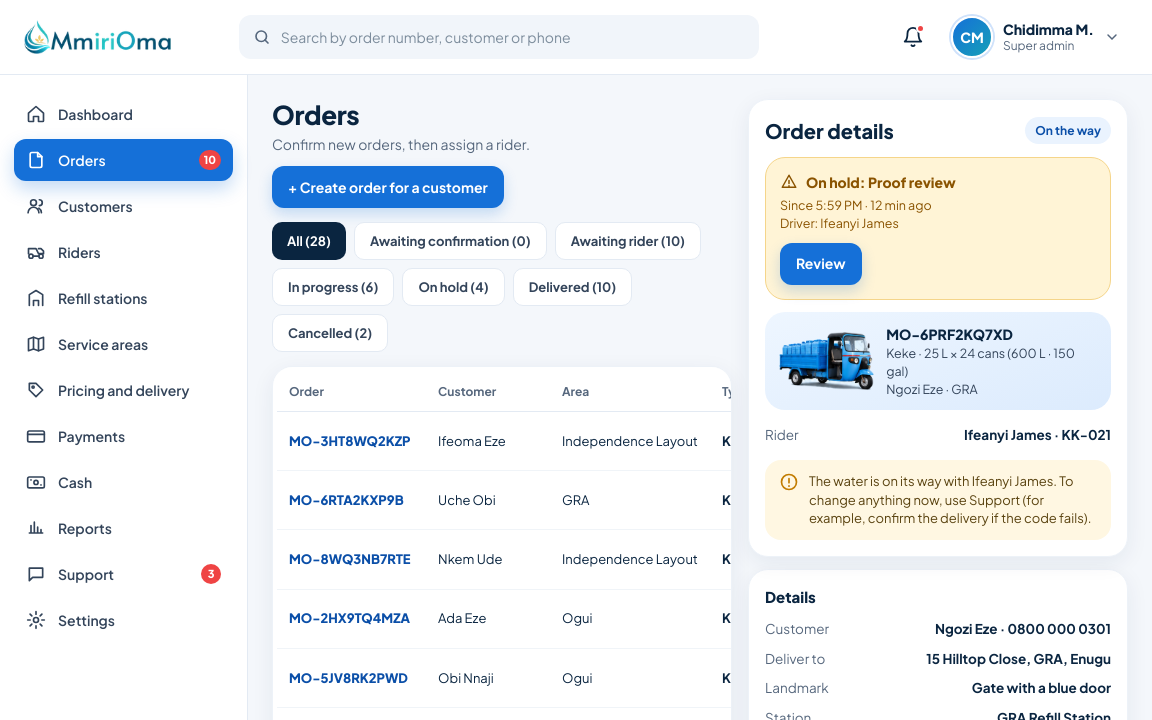
admin pages › rejects the proof with a reason, and the order stays where it was
This screenshot has width=1152, height=720.
Step 1. Click the button "Review" → {"x": 821, "y": 264}, box [780,242,862,284]
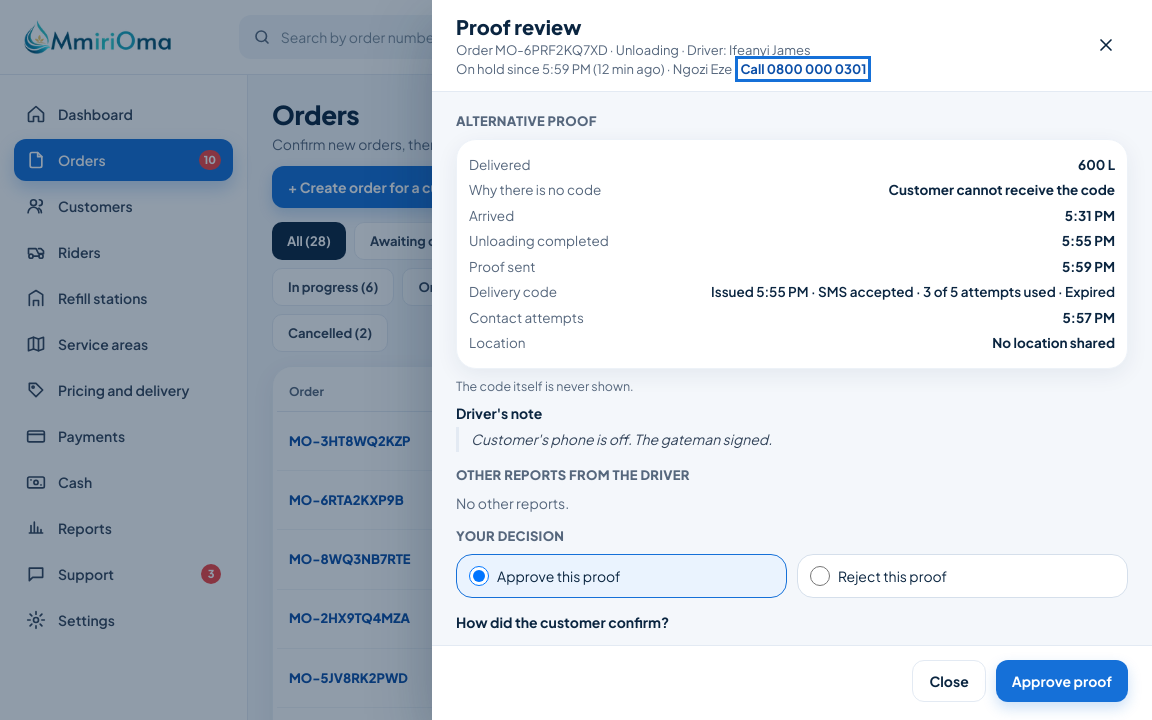
expect the heading "Alternative proof" is shown: met, box [456,113,597,129]
Step 2. Click the radio button labelled "Reject this proof" → {"x": 820, "y": 576}, box [810,566,830,586]
(page scrolled)
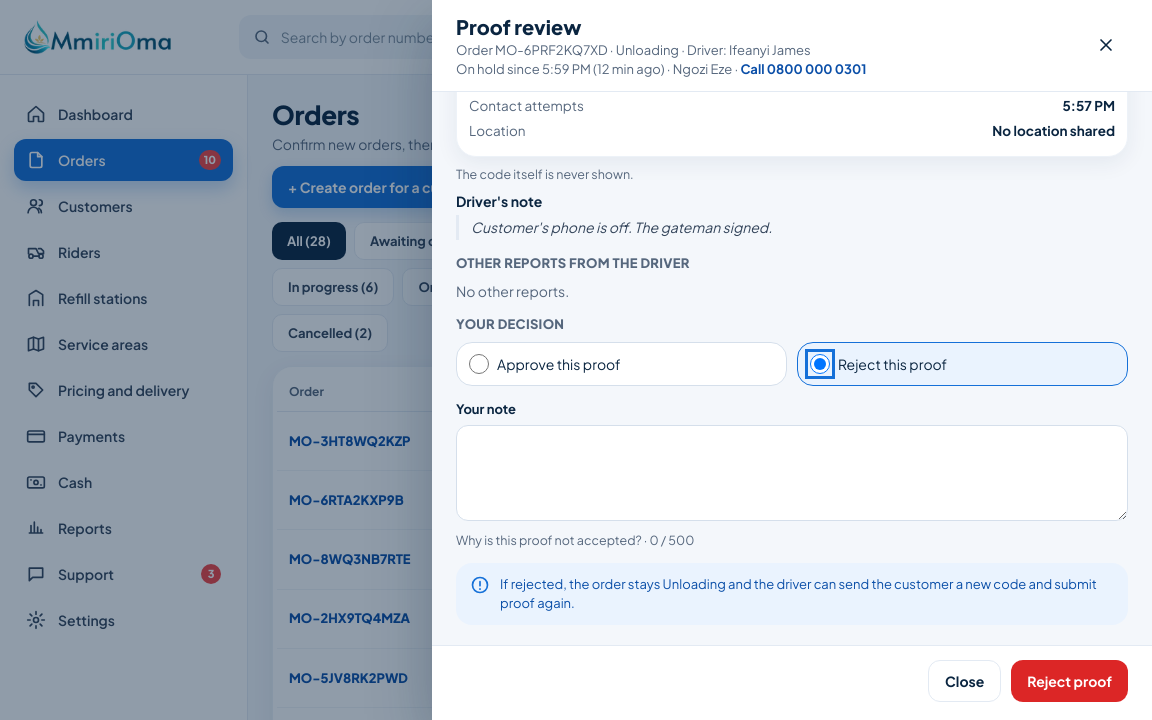
Step 3. Type "The person who answered is not the customer." into the text box labelled "Your note" → {"x": 792, "y": 473}, box [456,425,1128,521]
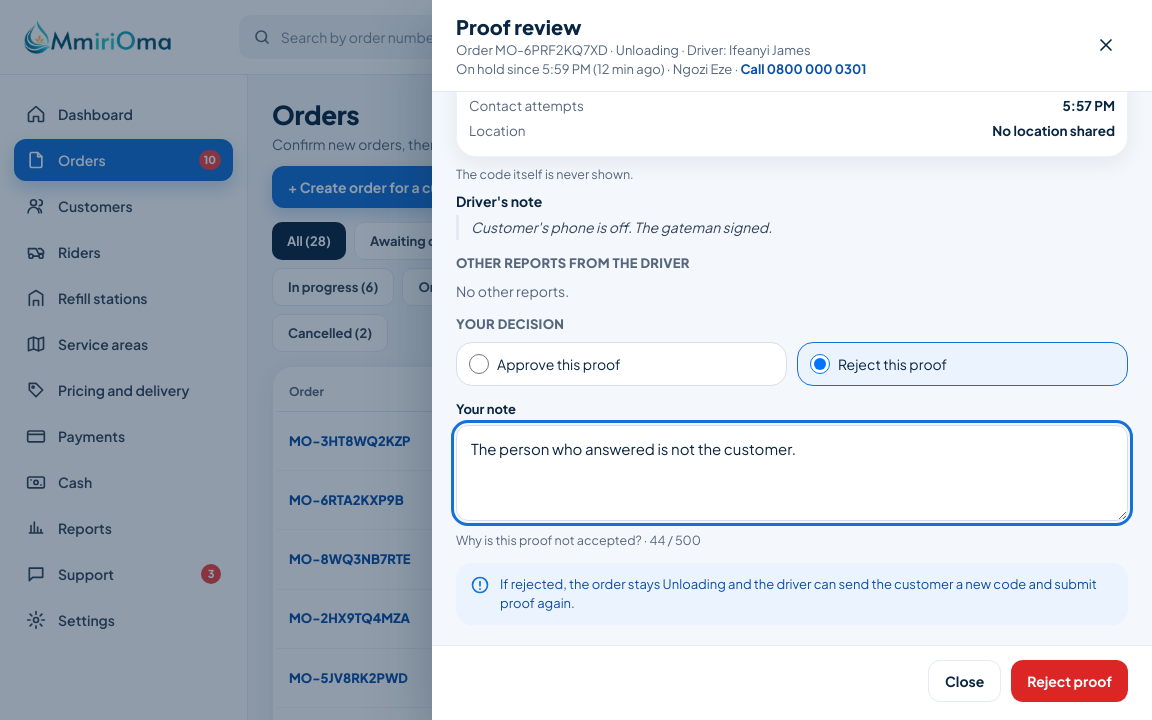
Step 4. Click the button "Reject proof" → {"x": 1070, "y": 681}, box [1011,660,1128,702]
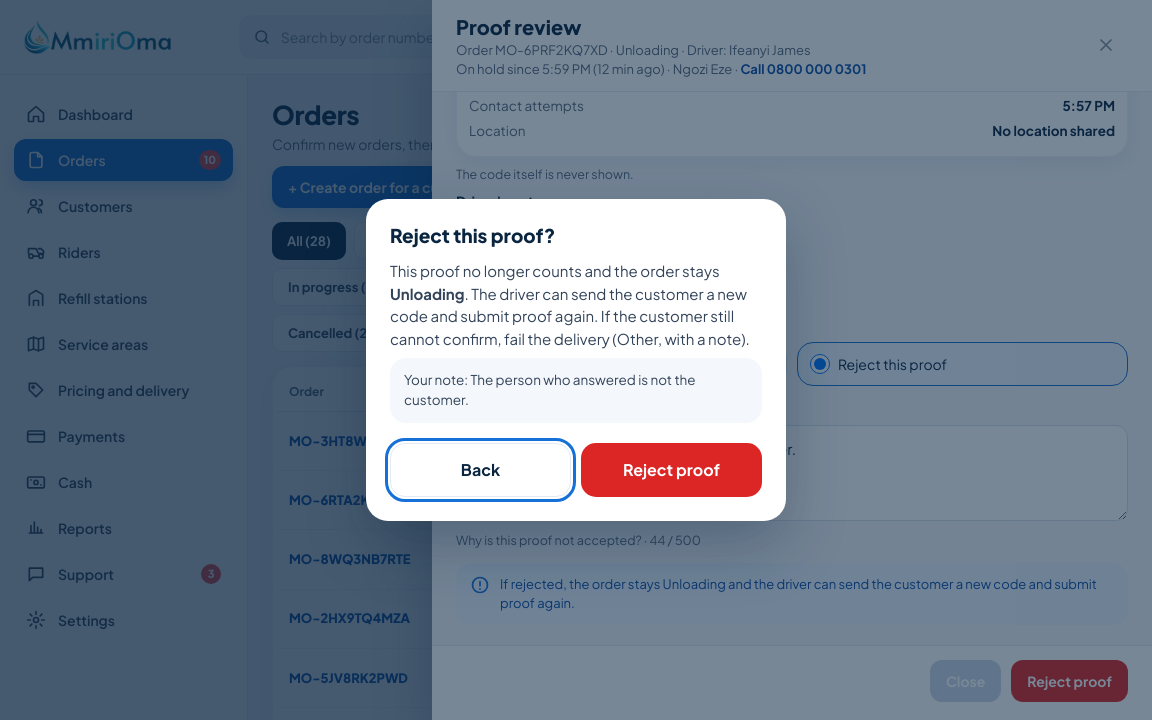
expect the dialog shows "the order stays Unloading": met, box [366,199,786,521]
Step 5. Click the button "Reject proof" → {"x": 672, "y": 470}, box [581,443,762,497]
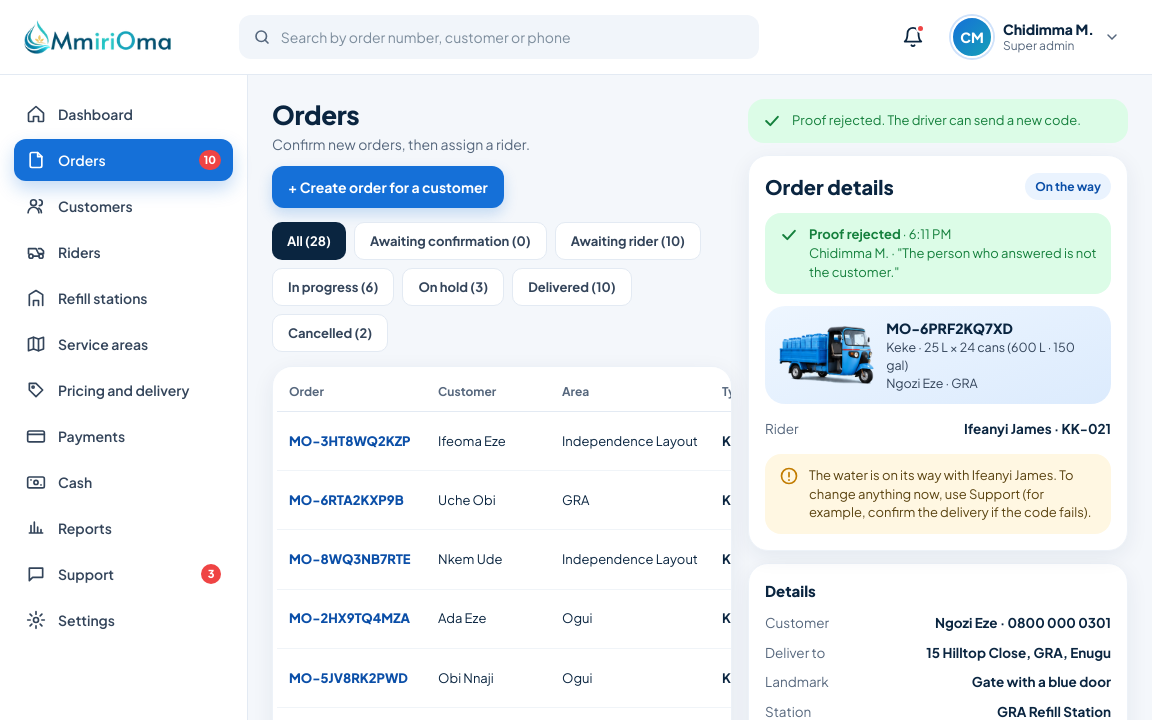
expect the text "Proof rejected. The driver can send a new code." is shown: met, box [792,111,1081,131]
